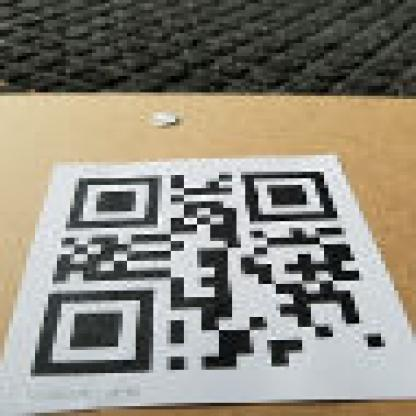qr: (25, 172, 388, 374)
